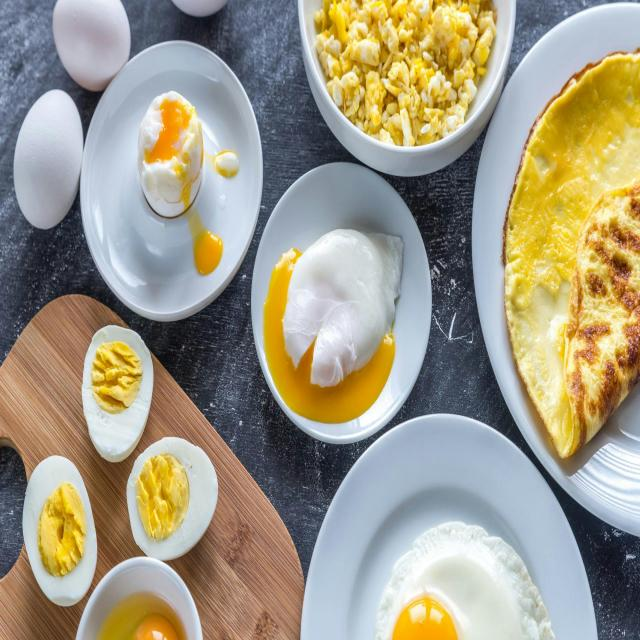huevos: (20, 454, 106, 614), (126, 433, 226, 569), (78, 322, 156, 470)
